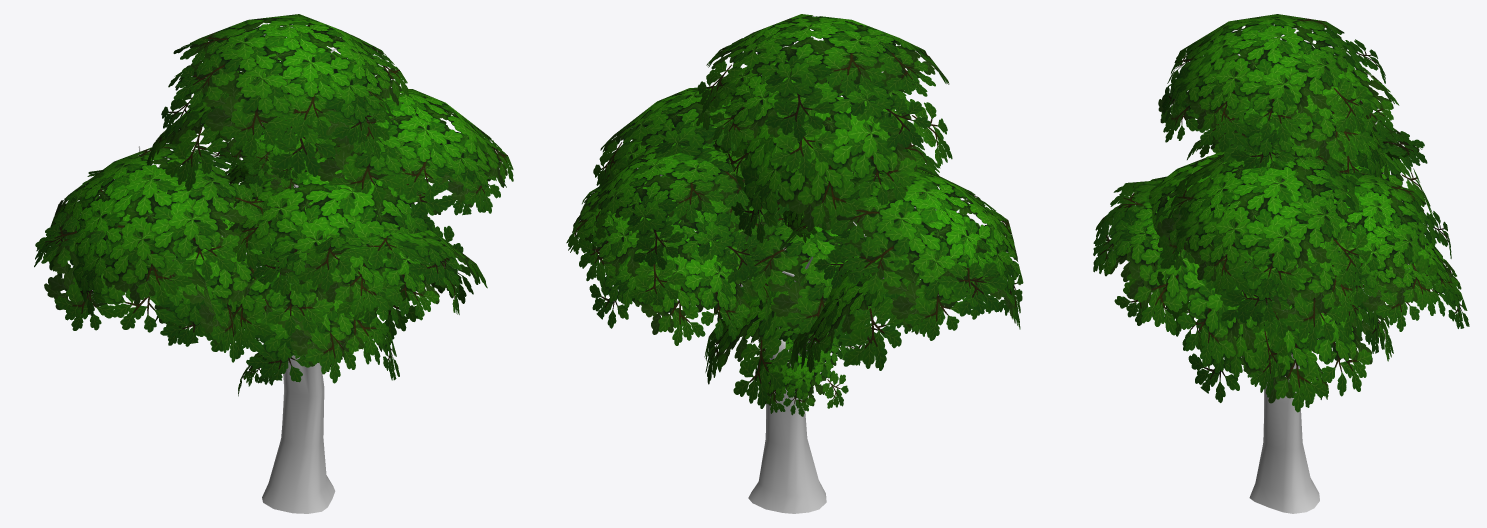
File: street_vegetation_park_tree_dub.FBX
The picture shows the model from 3 angles, left to right: view 1: azimuth 30°, elevation 25°; view 2: azimuth 150°, elevation 25°; view 3: azimuth 270°, elevation 25°; orthographic projection. The views are drawn at different scales.
Visible parts, largest first — view 1: street_vegetation_park_tree_dub_leafs, street_vegetation_park_tree_dub_bark; view 2: street_vegetation_park_tree_dub_leafs, street_vegetation_park_tree_dub_bark; view 3: street_vegetation_park_tree_dub_leafs, street_vegetation_park_tree_dub_bark.
Boxes of the visible parts, left/top/right/bottom form: street_vegetation_park_tree_dub_leafs: left=34, top=14, right=513, bottom=396; street_vegetation_park_tree_dub_bark: left=138, top=48, right=336, bottom=513; street_vegetation_park_tree_dub_leafs: left=566, top=14, right=1023, bottom=416; street_vegetation_park_tree_dub_bark: left=637, top=41, right=915, bottom=513; street_vegetation_park_tree_dub_leafs: left=1093, top=14, right=1469, bottom=412; street_vegetation_park_tree_dub_bark: left=1237, top=47, right=1377, bottom=513.
Bounding box in the file's own units: 784 × 599 × 774.
